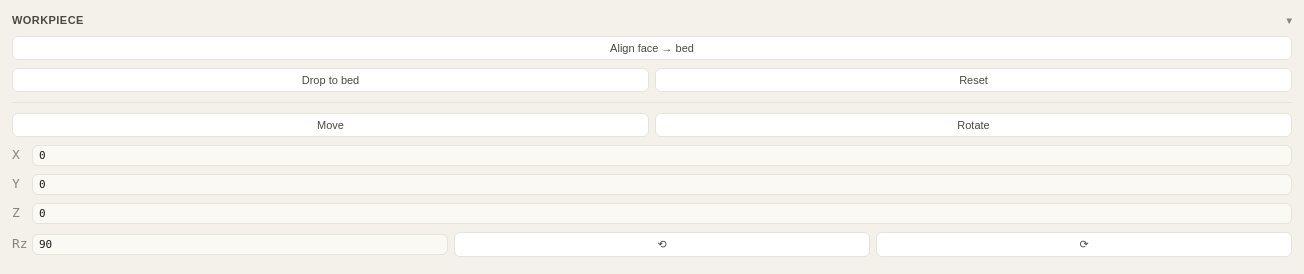
it: WorkpiecePanel › collapses its section header to hide the controls
Expected: the button "Align face → bed" is shown, x1=12 y1=36 x2=1292 y2=60
Step 1. Click the button "Workpiece ▾" → [48, 20], box x1=12 y1=12 x2=1292 y2=28
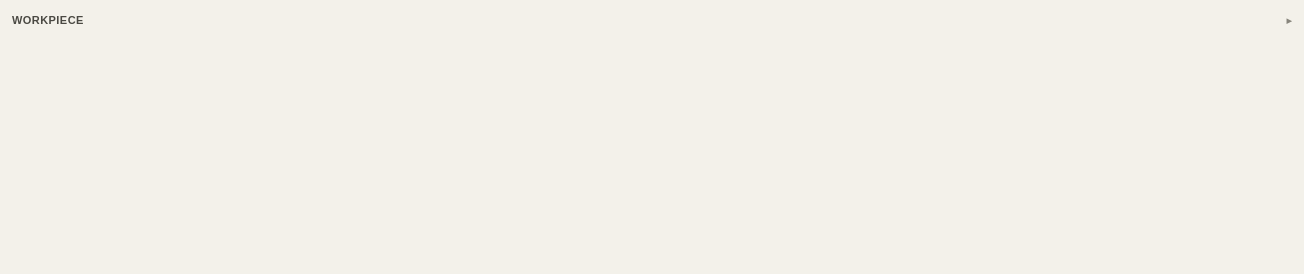
Expected: the button "Align face" is gone
